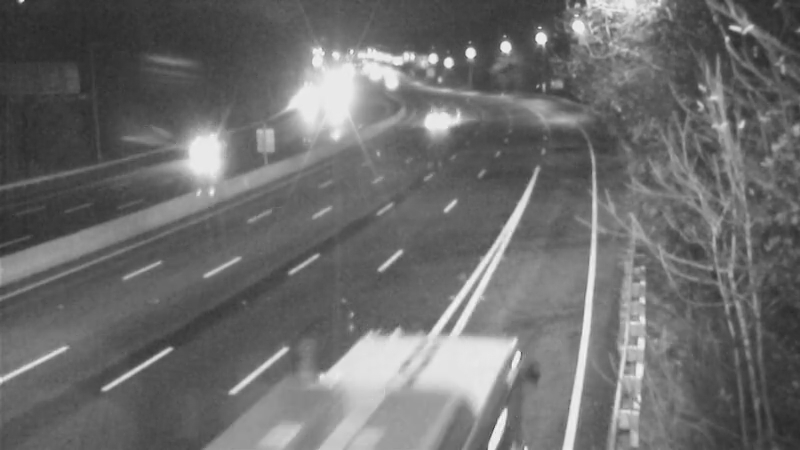vehicle: (320, 343, 430, 450), (158, 115, 238, 195), (412, 97, 462, 147)
